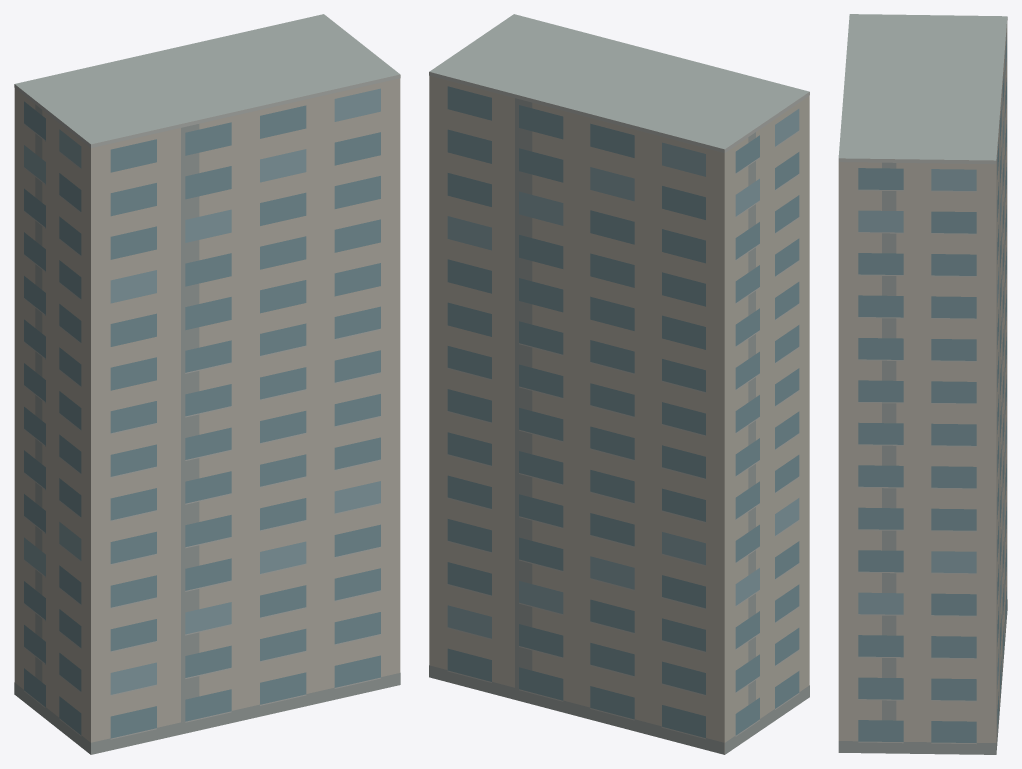
Rendered from residential-465c2e95-0928-4845-9198-2ffb9922d8d3.glb.
3 views of the same model, side by side, from view 1: azimuth 30°, elevation 25°; view 2: azimuth 150°, elevation 25°; view 3: azimuth 270°, elevation 25° (orthographic). The views are drawn at different scales.
Visible parts, largest first — view 1: residential-465c2e95-0928-4845-9198-2ffb9922d8d3.tmp; view 2: residential-465c2e95-0928-4845-9198-2ffb9922d8d3.tmp; view 3: residential-465c2e95-0928-4845-9198-2ffb9922d8d3.tmp.
Part boxes in pixels (x1,y1,x2,y2): residential-465c2e95-0928-4845-9198-2ffb9922d8d3.tmp: (14,14,400,754); residential-465c2e95-0928-4845-9198-2ffb9922d8d3.tmp: (429,14,809,754); residential-465c2e95-0928-4845-9198-2ffb9922d8d3.tmp: (838,14,1007,754).
Size of the model in its own units: 20.62 by 39 by 10.05.
